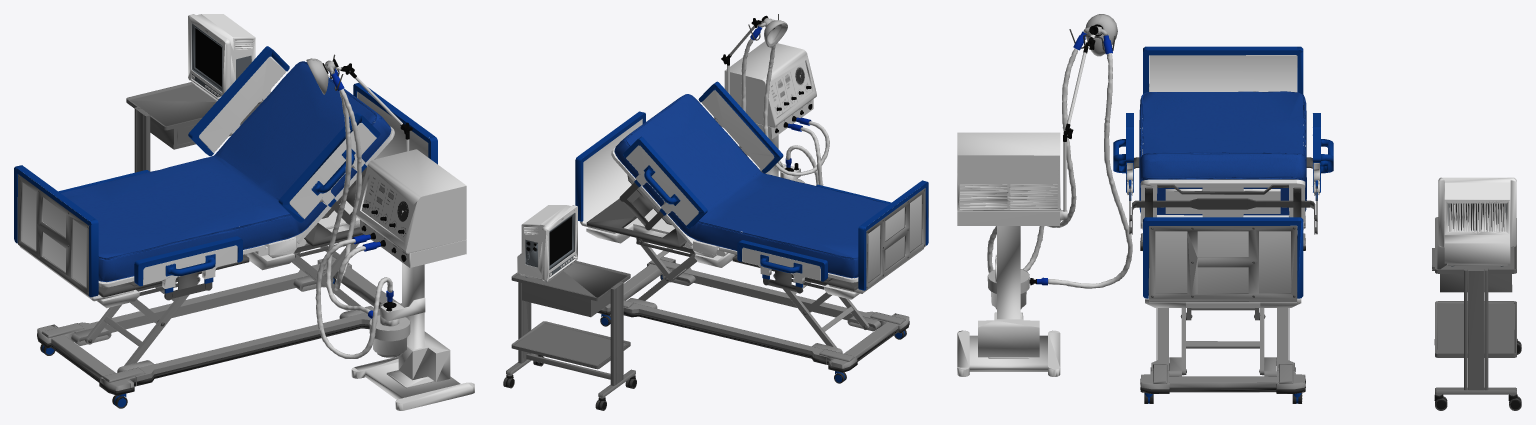
File: room_fbx.fbx
3 renders of one model, left to right at view 1: azimuth 30°, elevation 25°; view 2: azimuth 150°, elevation 25°; view 3: azimuth 270°, elevation 25°, orthographic. The views are drawn at different scales.
Parts seen in each view (by area): view 1: bed, Ventilator, medicalTable, heart_rate_mon.001, cables, MASK; view 2: bed, medicalTable, Ventilator, heart_rate_mon.001, cables, MASK; view 3: bed, Ventilator, medicalTable, heart_rate_mon.001, cables, MASK.
Boxes of the visible parts, box(x1,y1,x2,y2) form: bed: box(14, 46, 437, 408); Ventilator: box(329, 54, 474, 410); medicalTable: box(126, 82, 262, 172); heart_rate_mon.001: box(188, 14, 255, 100); cables: box(315, 89, 392, 358); MASK: box(306, 58, 344, 94); bed: box(575, 81, 928, 383); medicalTable: box(503, 261, 636, 410); Ventilator: box(721, 14, 816, 183); heart_rate_mon.001: box(517, 205, 577, 281); cables: box(741, 38, 829, 185); MASK: box(750, 15, 787, 47); bed: box(1113, 46, 1333, 403); Ventilator: box(957, 29, 1115, 376); medicalTable: box(1432, 217, 1521, 410); heart_rate_mon.001: box(1438, 177, 1516, 266); cables: box(987, 48, 1132, 288); MASK: box(1073, 14, 1117, 56).
Bounding box in the file's own units: 200 × 178 × 274.
Materials: 20 (6 with a texture image).
